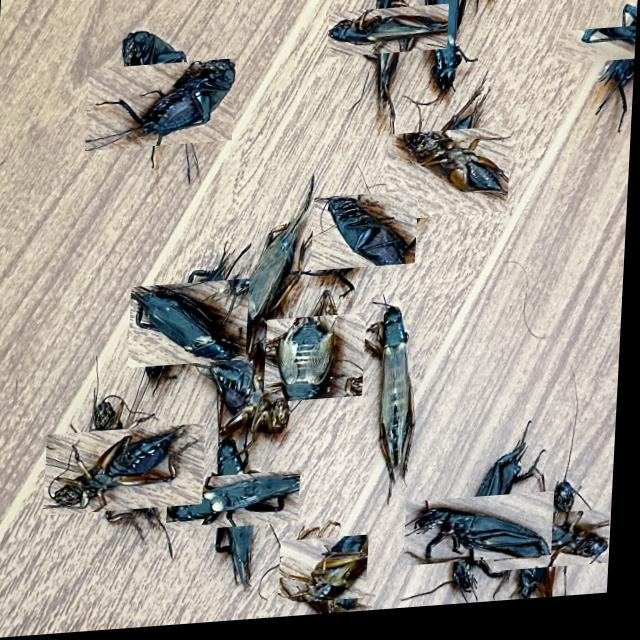egg: (66, 408, 191, 535), (86, 62, 236, 152), (429, 480, 539, 592), (372, 293, 420, 530), (139, 274, 243, 380), (189, 456, 285, 554), (270, 314, 365, 412), (513, 504, 601, 593), (289, 535, 368, 616), (579, 14, 638, 95), (447, 0, 511, 11)
no_egg: (395, 124, 504, 235), (320, 189, 412, 284), (344, 0, 431, 81)
